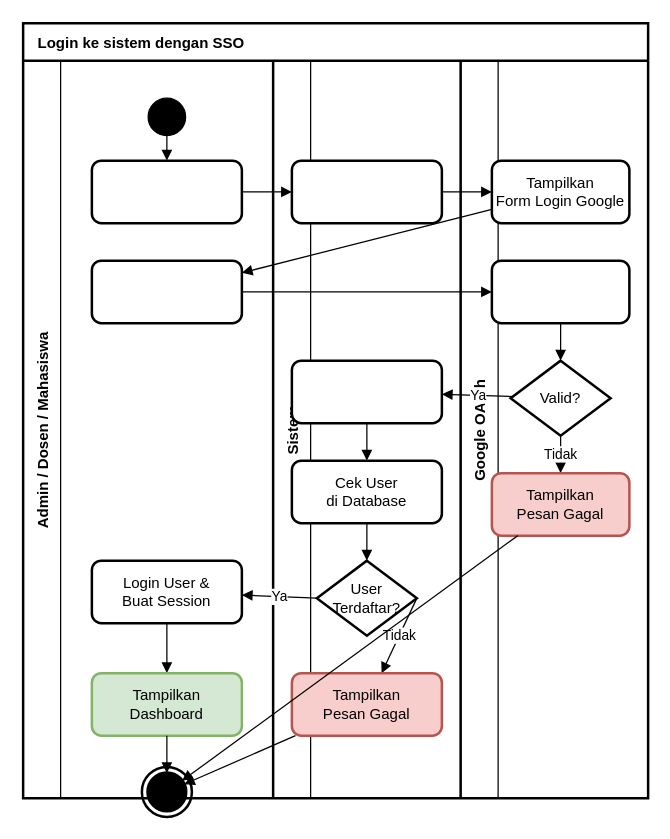
Image size: 670x839. Some labels were removed from this diagram. Here are the shapes that lost their labels. From the top down, the centre of each, then its label:
At (x=166, y=191): "Klik Tombol Login dengan Google".
At (x=366, y=191): "Redirect ke Google OAuth".
At (x=166, y=291): "Masukkan Akun Google".
At (x=560, y=291): "Validasi Kredensial".
At (x=366, y=391): "Kirim Data User ke Sistem".
